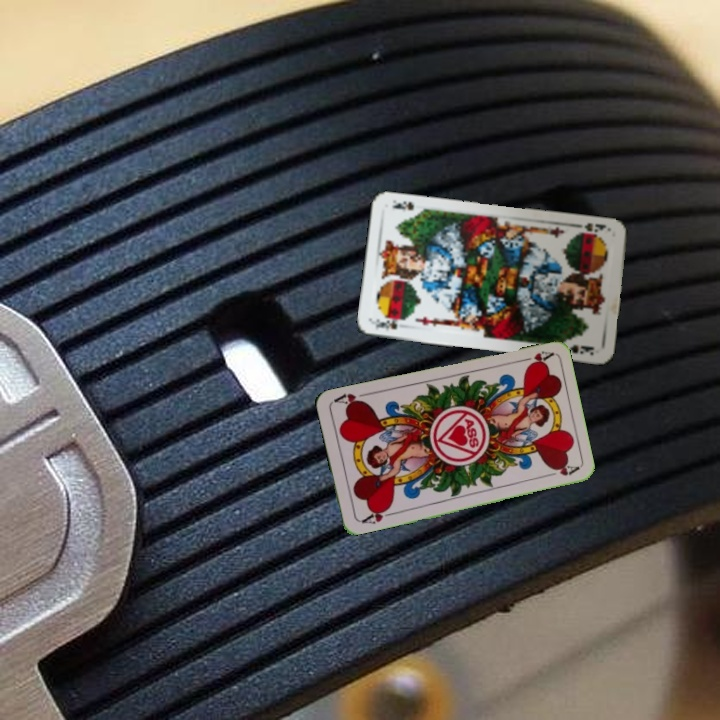HA: (356, 503, 396, 527), (514, 347, 554, 370)
SK: (372, 314, 400, 332), (580, 219, 609, 234)
